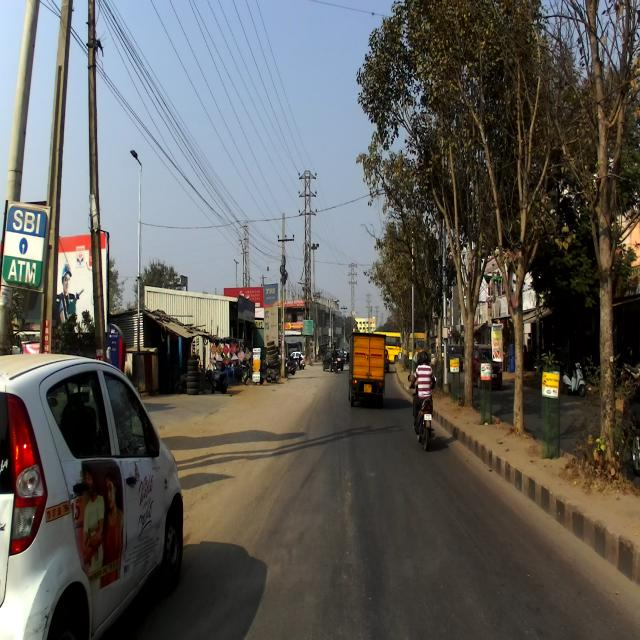car ahead at: (0, 348, 186, 640)
motorcycle ahead at: (409, 346, 441, 449)
truck ahead at: (346, 326, 388, 408)
